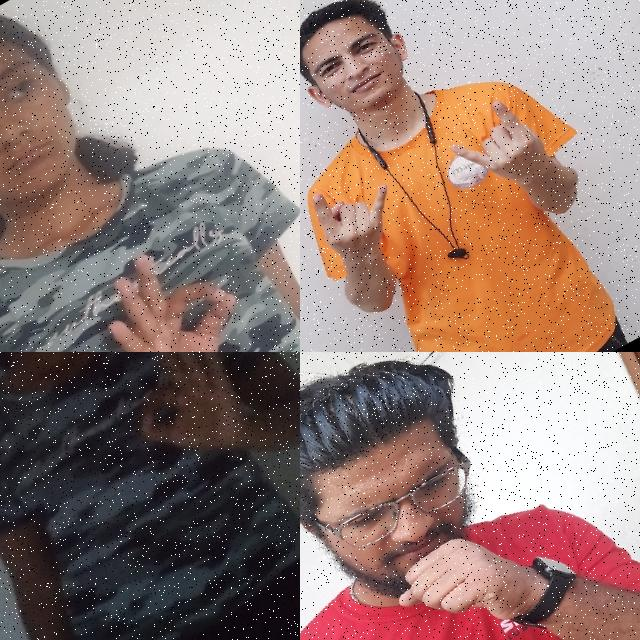Corna: (300, 154, 422, 284), (434, 83, 560, 207)
Fist Mouth: (300, 352, 573, 640)
Okay: (68, 215, 285, 352), (102, 352, 286, 496)
